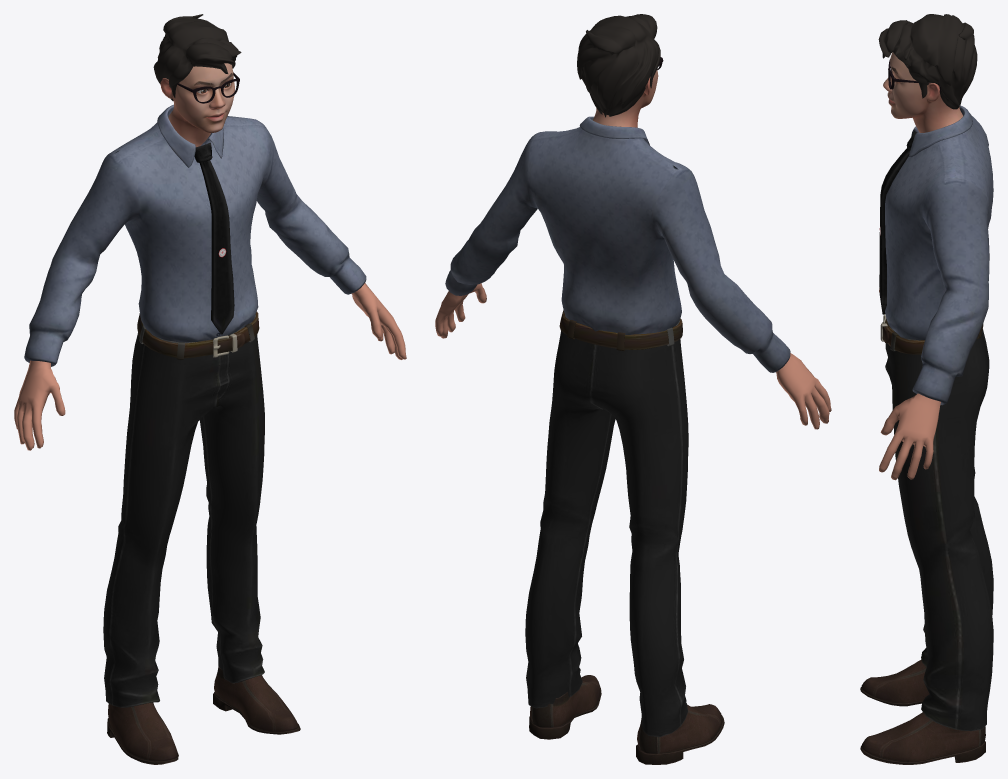
File: Teacher_Joe.gltf
The picture shows the model from 3 angles, left to right: view 1: azimuth 30°, elevation 25°; view 2: azimuth 150°, elevation 25°; view 3: azimuth 270°, elevation 25°; orthographic projection.
Parts seen in each view (by area): view 1: _gltfNode_24, _gltfNode_18, _gltfNode_21, _gltfNode_15, _gltfNode_27, _gltfNode_9; view 2: _gltfNode_18, _gltfNode_24, _gltfNode_27, _gltfNode_21, _gltfNode_15, _gltfNode_9; view 3: _gltfNode_18, _gltfNode_24, _gltfNode_21, _gltfNode_27, _gltfNode_15, _gltfNode_9.
Part boxes in pixels (box(x1,y1,x2,y2)): _gltfNode_24: box(24, 104, 366, 366); _gltfNode_18: box(103, 311, 264, 707); _gltfNode_21: box(107, 666, 300, 764); _gltfNode_15: box(14, 283, 406, 450); _gltfNode_27: box(153, 14, 241, 100); _gltfNode_9: box(160, 63, 234, 146); _gltfNode_18: box(525, 310, 688, 736); _gltfNode_24: box(445, 116, 790, 372); _gltfNode_27: box(577, 14, 660, 117); _gltfNode_21: box(529, 675, 724, 764); _gltfNode_15: box(435, 283, 831, 429); _gltfNode_9: box(593, 69, 658, 127); _gltfNode_18: box(880, 314, 993, 731); _gltfNode_24: box(879, 105, 993, 405); _gltfNode_21: box(860, 659, 985, 764); _gltfNode_27: box(878, 14, 977, 109); _gltfNode_15: box(879, 288, 940, 480); _gltfNode_9: box(883, 52, 962, 132).
Size of the model in its own units: 0.2919 by 0.5182 by 0.0887.
11 materials, 11 textured.
